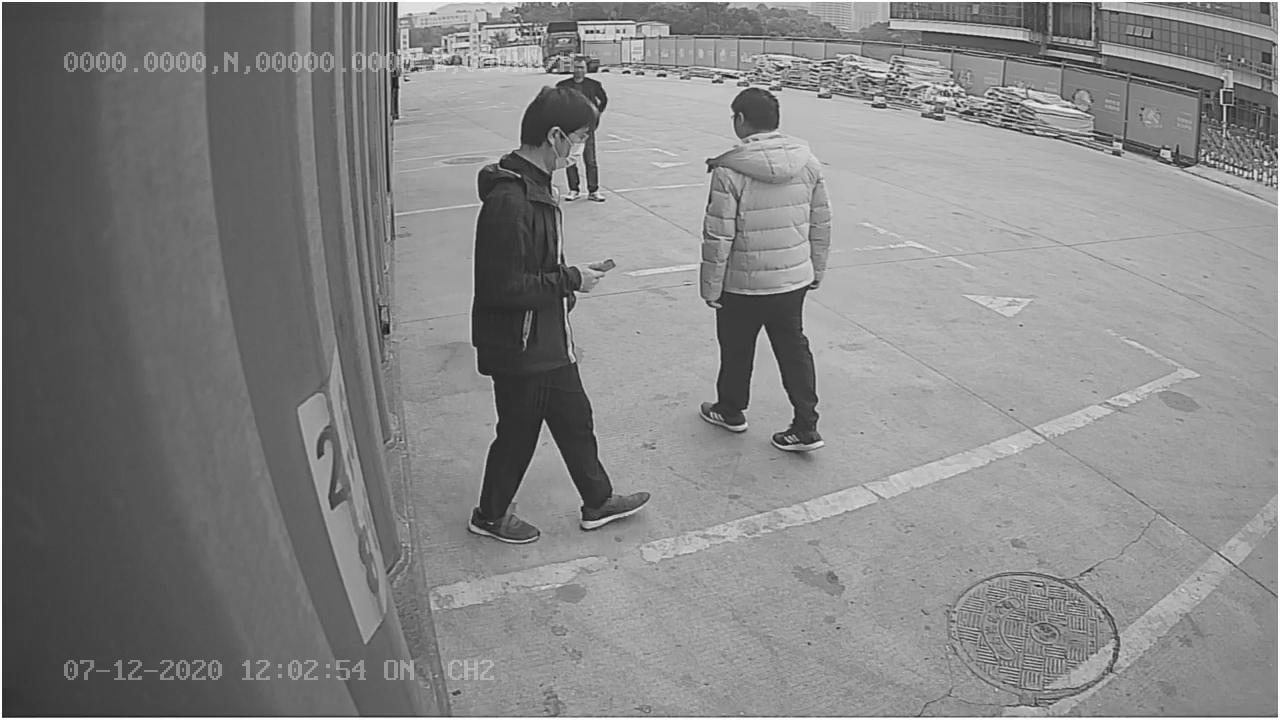person: (691, 87, 833, 452)
